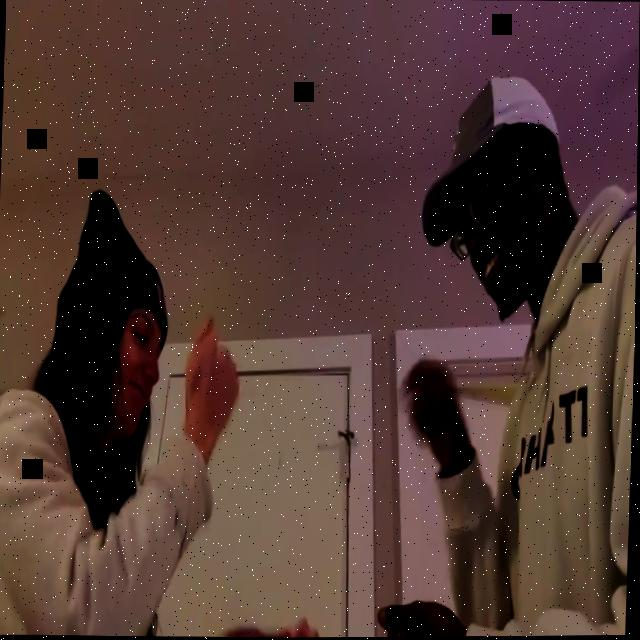Rock: (183, 318, 244, 447), (399, 363, 461, 467)
